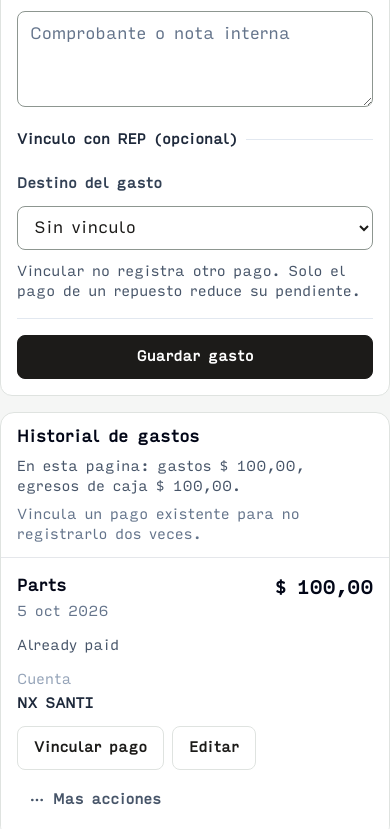
it: offers a metadata-only existing expense form, separate from financial editing
(page scrolled)
Step 1. Click the button "Vincular pago" → (91, 748), box [17,726,164,770]
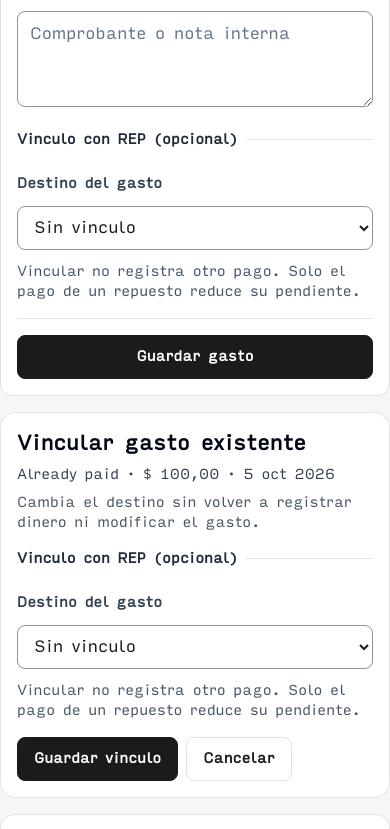
expect the form named "id" is shown: met, box [17,549,373,781]
expect the text "sin volver a registrar dinero" is shown: met, box [17,494,352,531]
